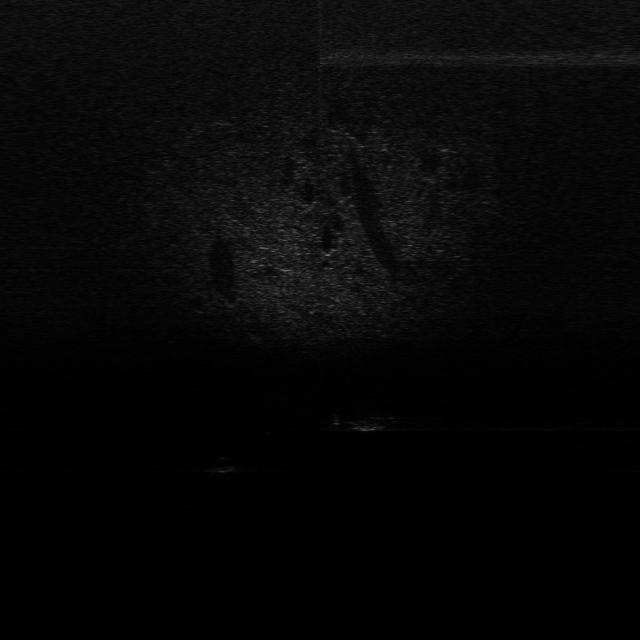ball: (207, 452, 238, 478)
human body: (212, 454, 237, 476)
